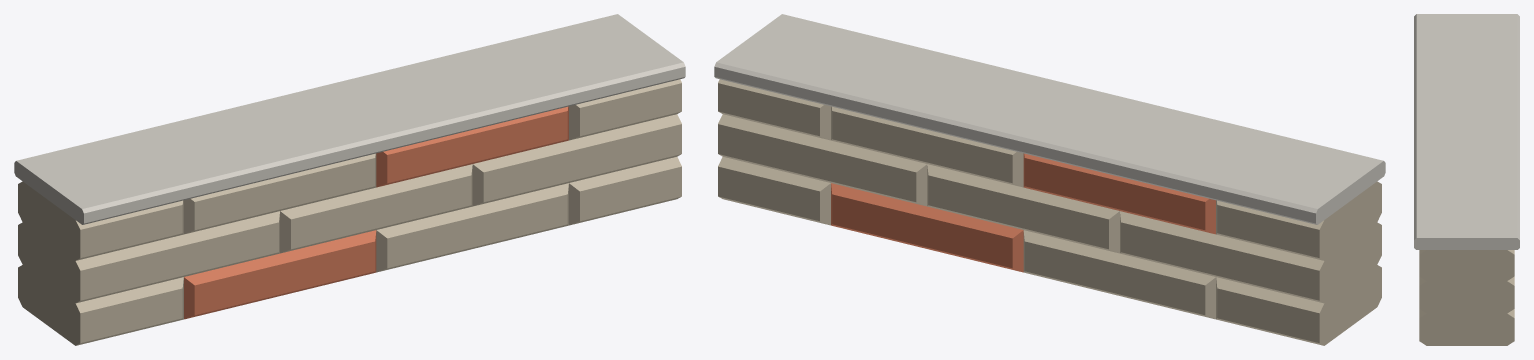
Rendered from tas_duvar.glb.
3 renders of one model, left to right at view 1: azimuth 30°, elevation 25°; view 2: azimuth 150°, elevation 25°; view 3: azimuth 270°, elevation 25°, orthographic. The views are drawn at different scales.
Parts seen in each view (by area): view 1: tas_duvar; view 2: tas_duvar; view 3: tas_duvar.
Boxes of the visible parts, x1,y1,x2,y2 form: tas_duvar: (14, 14, 685, 345); tas_duvar: (714, 14, 1385, 345); tas_duvar: (1414, 14, 1519, 345).
Bounding box in the file's own units: 2 × 0.45 × 0.4.
